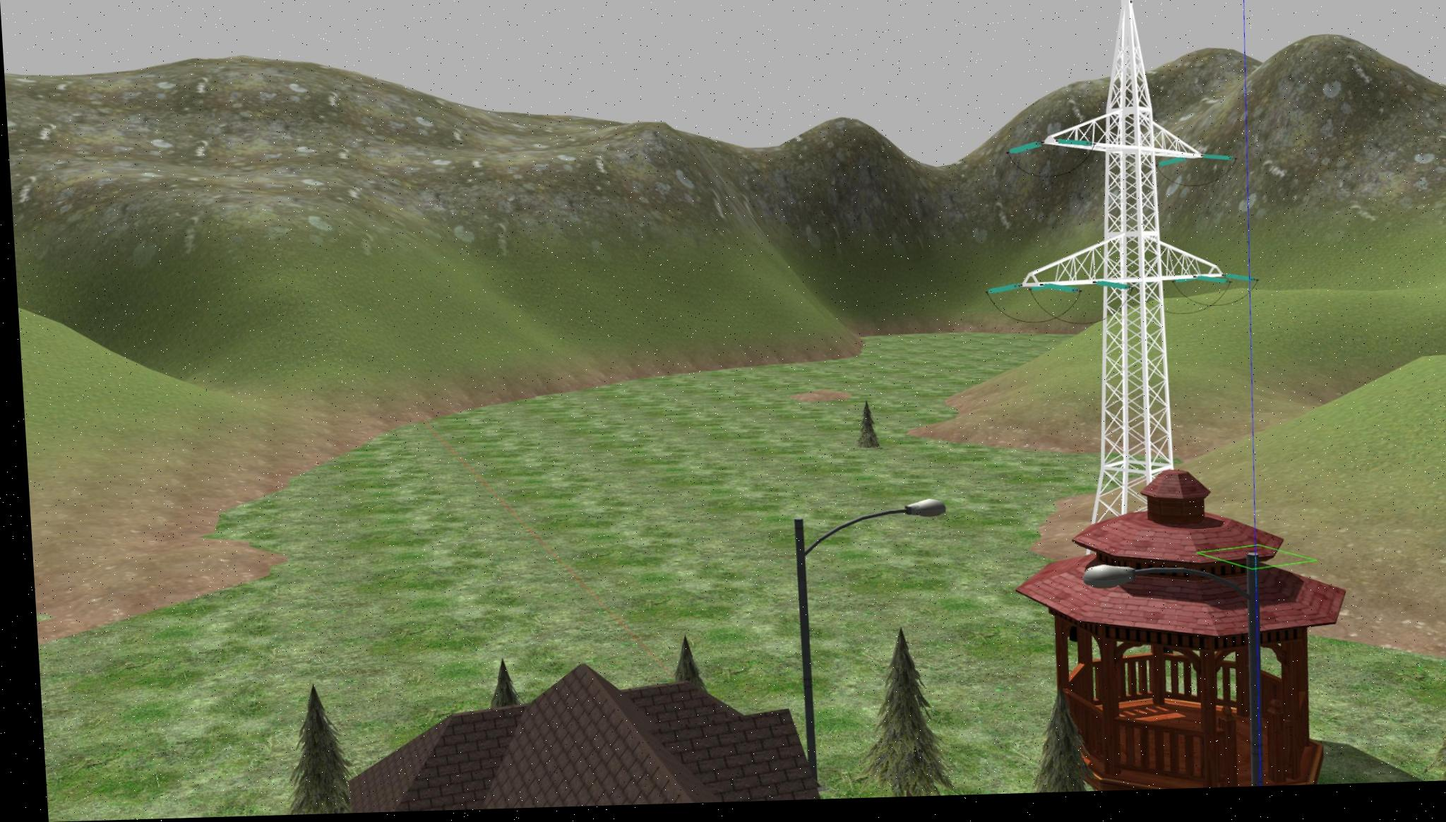tower: (1002, 0, 1243, 496)
